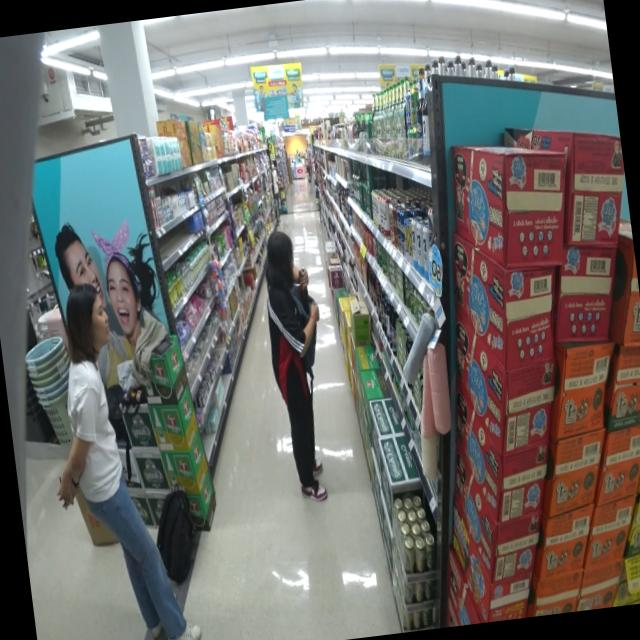shoplifting: (256, 225, 340, 503)
